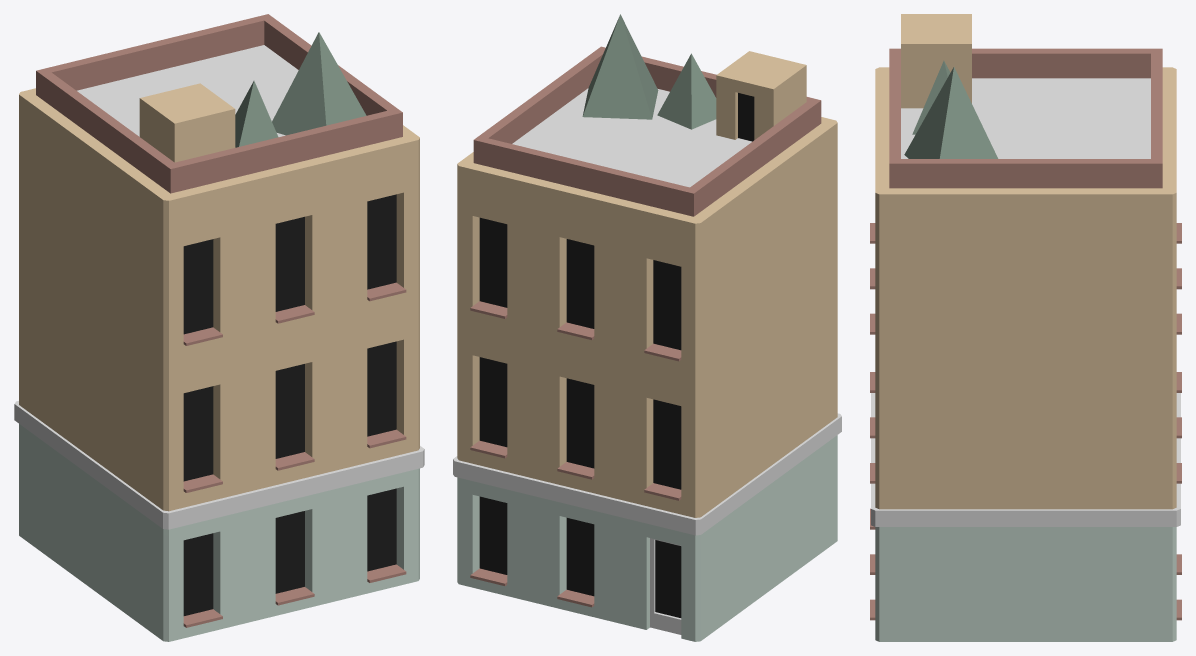
File: Office.fbx
3 renders of one model, left to right at view 1: azimuth 30°, elevation 25°; view 2: azimuth 150°, elevation 25°; view 3: azimuth 270°, elevation 25°, orthographic. The views are drawn at different scales.
Parts seen in each view (by area): view 1: Office_testExport; view 2: Office_testExport; view 3: Office_testExport.
Boxes of the visible parts, <box> form: Office_testExport: <box>14,14,424,641</box>; Office_testExport: <box>453,14,841,641</box>; Office_testExport: <box>870,14,1181,641</box>.
Bounding box in the file's own units: 102 × 199 × 104.
